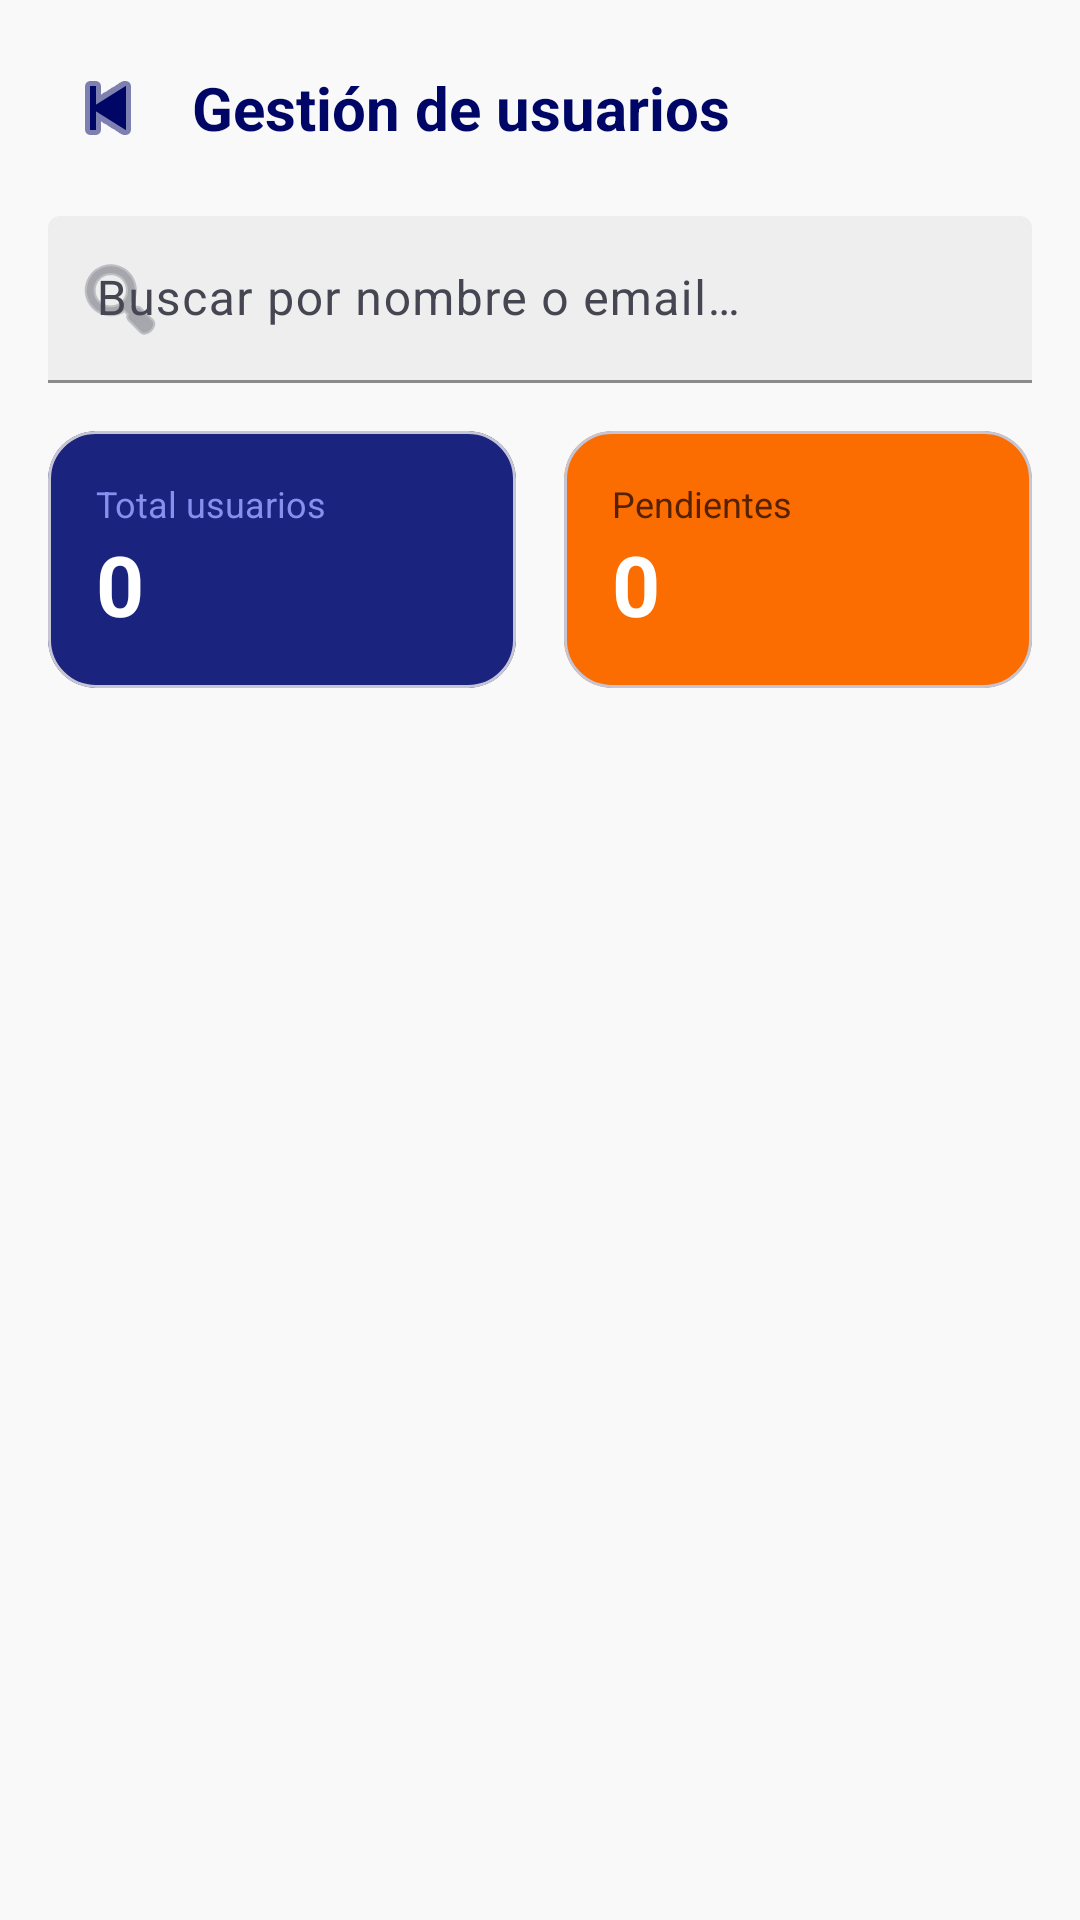

Screen size 1080 x 1920. Icon name, then its center in pixels as [x,y]:
Volver: [108,108]
